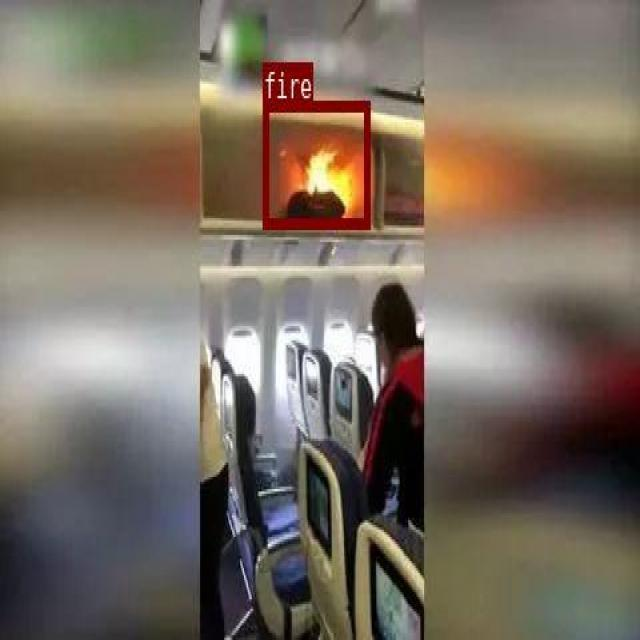fire: (262, 101, 369, 227)
